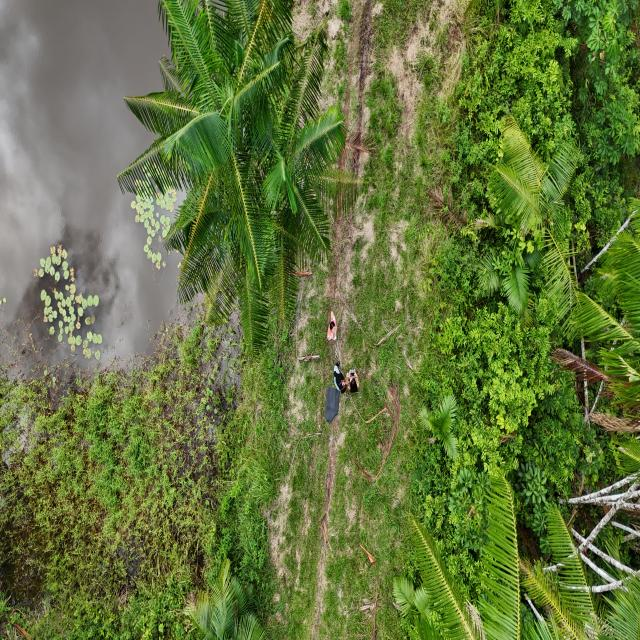vegetation: (116, 0, 368, 362)
